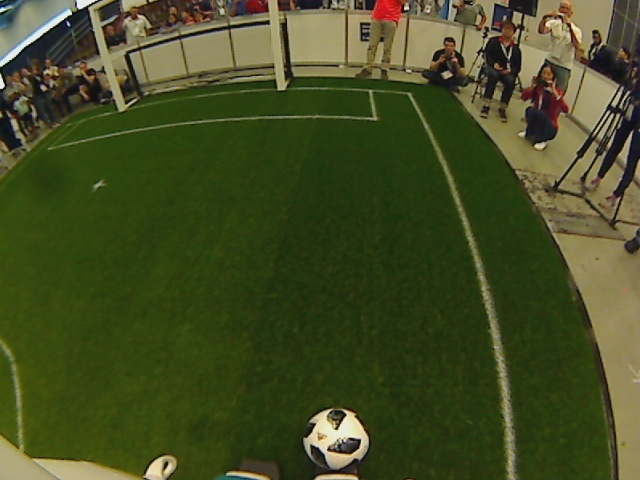ball: (298, 406, 371, 473)
